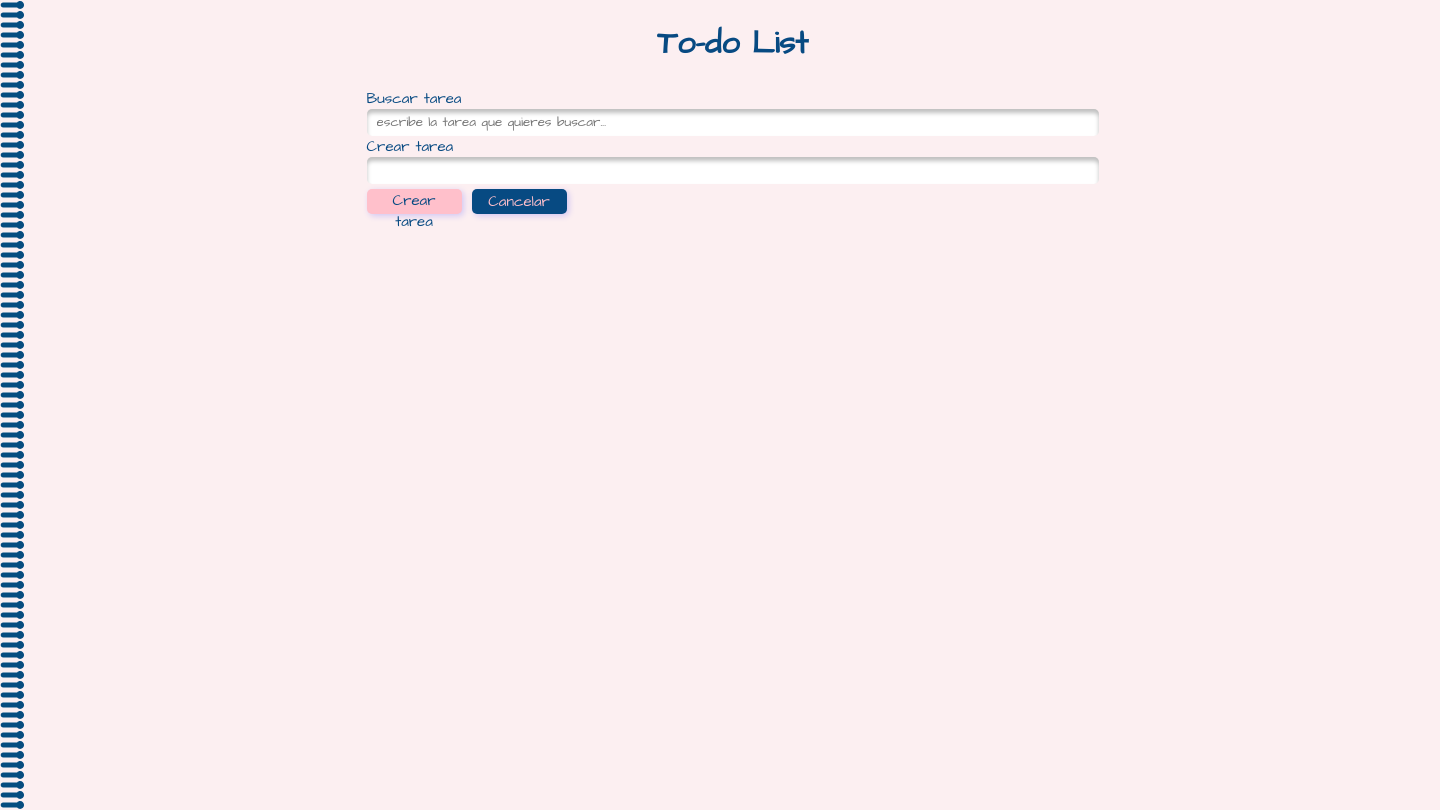
Test: form test › create new task
The image size is (1440, 810).
Type "Bañar al gato" into the field labelled "Crear tarea" at point(732, 170), box [366,157,1098,184]
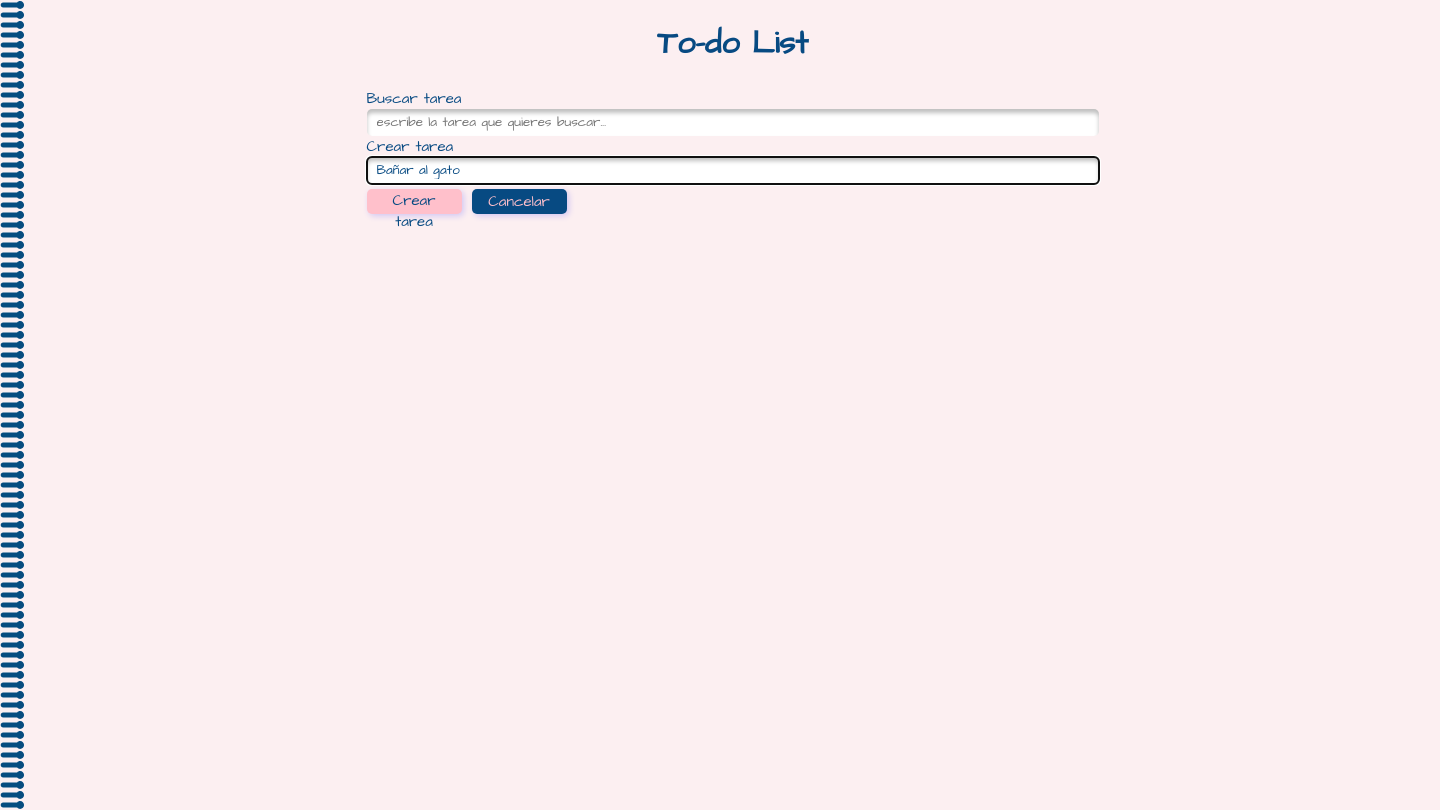
Click the button "Crear tarea" at point(414, 201), box [366,189,462,214]
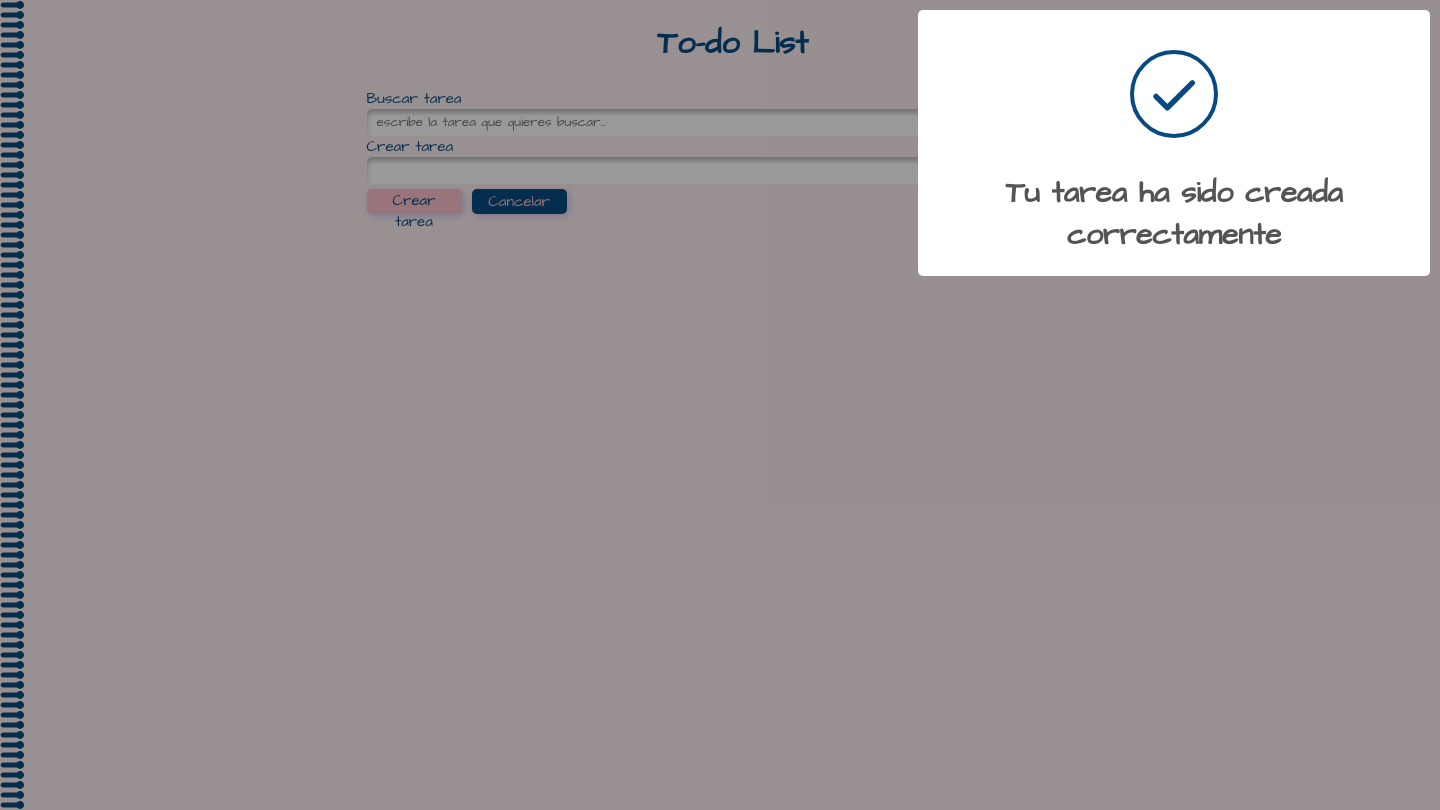
Now the heading "Tu tarea ha sido creada correctamente" is shown, box [1006,172,1343,256]
